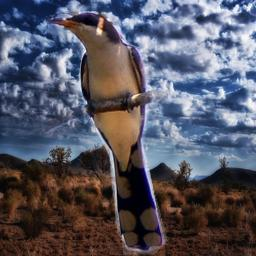Cuckoo: (46, 11, 168, 255)
